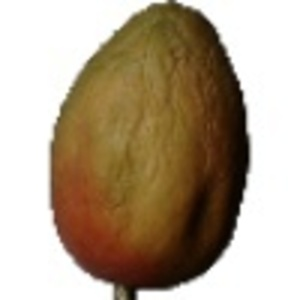mamão: (40, 4, 275, 291)
